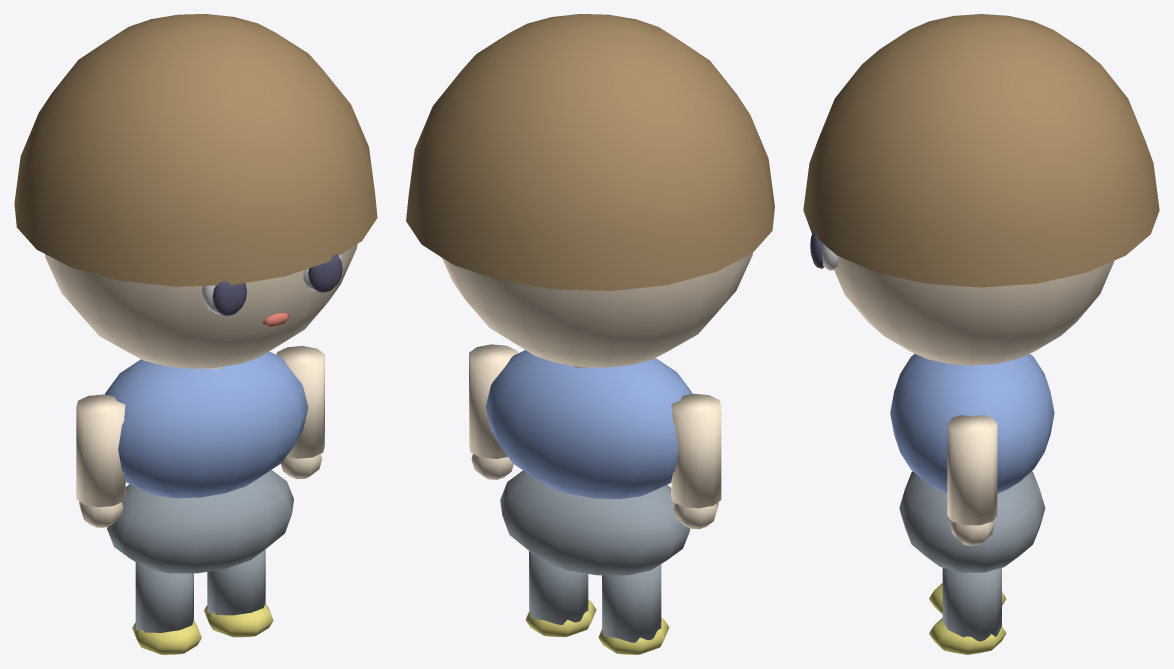
File: character.glb
3 renders of one model, left to right at view 1: azimuth 30°, elevation 25°; view 2: azimuth 150°, elevation 25°; view 3: azimuth 270°, elevation 25°, orthographic. The views are drawn at different scales.
Parts seen in each view (by area): view 1: Char_Hair, Char_Body, Char_Head, Char_Pants, Char_Arm_Upper_L, Char_Leg_L, Char_Arm_Upper_R, Char_Leg_R, Char_Shoe_R, Char_Shoe_L, Char_Pupil_L, Char_Pupil_R (+2 smaller); view 2: Char_Hair, Char_Body, Char_Head, Char_Pants, Char_Arm_Upper_L, Char_Leg_L, Char_Leg_R, Char_Arm_Upper_R, Char_Shoe_L, Char_Shoe_R, Char_Hand_L, Char_Hand_R; view 3: Char_Hair, Char_Head, Char_Body, Char_Pants, Char_Arm_Upper_R, Char_Leg_R, Char_Shoe_R, Char_Hand_R.
Part boxes in pixels (<box>): Char_Hair: <box>14,14,377,286</box>; Char_Body: <box>105,351,308,498</box>; Char_Head: <box>45,244,357,368</box>; Char_Pants: <box>107,470,293,573</box>; Char_Arm_Upper_L: <box>76,394,125,507</box>; Char_Leg_L: <box>135,562,193,632</box>; Char_Arm_Upper_R: <box>276,346,324,458</box>; Char_Leg_R: <box>207,549,265,615</box>; Char_Shoe_R: <box>204,603,273,637</box>; Char_Shoe_L: <box>132,621,201,654</box>; Char_Pupil_L: <box>212,281,246,315</box>; Char_Pupil_R: <box>308,254,342,292</box>; Char_Hair: <box>406,14,774,290</box>; Char_Body: <box>485,350,692,499</box>; Char_Head: <box>442,253,752,367</box>; Char_Pants: <box>500,470,690,575</box>; Char_Arm_Upper_L: <box>671,393,721,508</box>; Char_Leg_L: <box>602,564,661,642</box>; Char_Leg_R: <box>529,551,588,624</box>; Char_Arm_Upper_R: <box>469,344,517,458</box>; Char_Shoe_L: <box>598,618,669,654</box>; Char_Shoe_R: <box>525,600,596,637</box>; Char_Hand_L: <box>673,502,718,529</box>; Char_Hand_R: <box>471,454,513,479</box>; Char_Hair: <box>803,14,1159,287</box>; Char_Head: <box>834,256,1114,365</box>; Char_Body: <box>890,353,1054,493</box>; Char_Pants: <box>899,471,1045,572</box>; Char_Arm_Upper_R: <box>947,415,997,525</box>; Char_Leg_R: <box>942,568,1001,641</box>; Char_Shoe_R: <box>929,618,1006,654</box>; Char_Hand_R: <box>949,520,994,546</box>.
Bounding box in the file's own units: 0.8 × 1.46 × 0.78.
